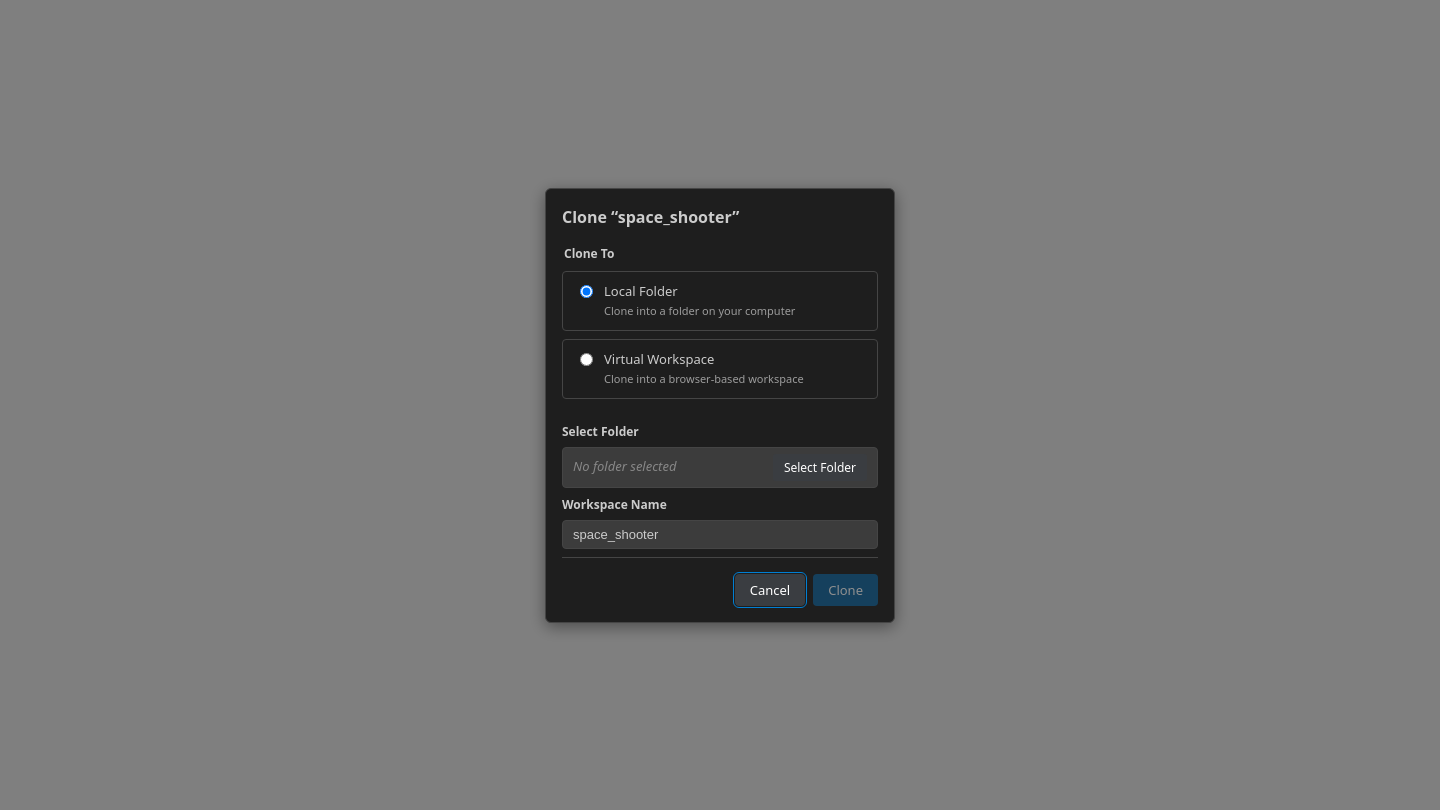
Scenario: CloneProjectDialog › clone type selection › can select virtual workspace option
This screenshot has width=1440, height=810.
Click the radio button labelled "Virtual Workspace Clone into a browser-based workspace". click: x=586, y=359
box: [580,352,593,366]
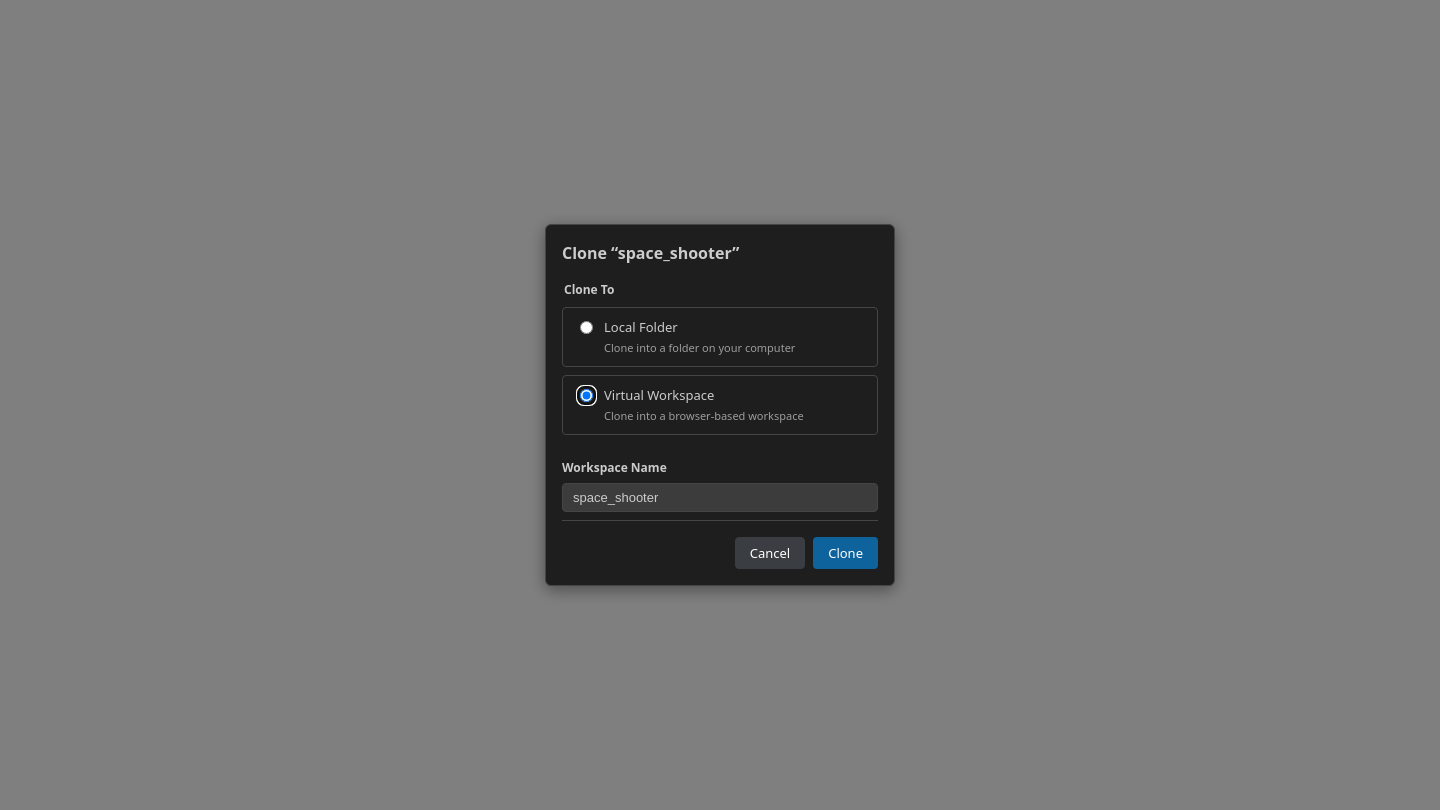
Check: the radio button labelled "Virtual Workspace Clone into a browser-based workspace" is checked, box [580,389,593,402]
Check: the radio button labelled "Local Folder Clone into a folder on your computer" is not checked, box [580,321,593,334]
